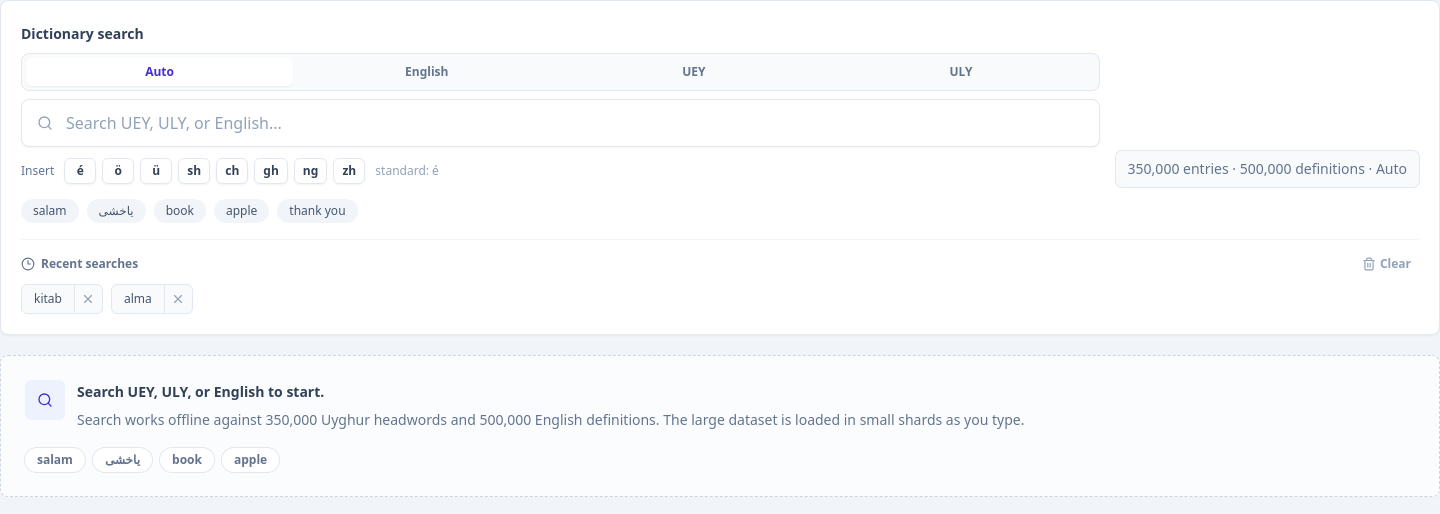
Test: DictionaryPanel › clears all recent searches
Click the button with aria-label "Clear recent searches": (1386, 264) [1354,252,1419,276]
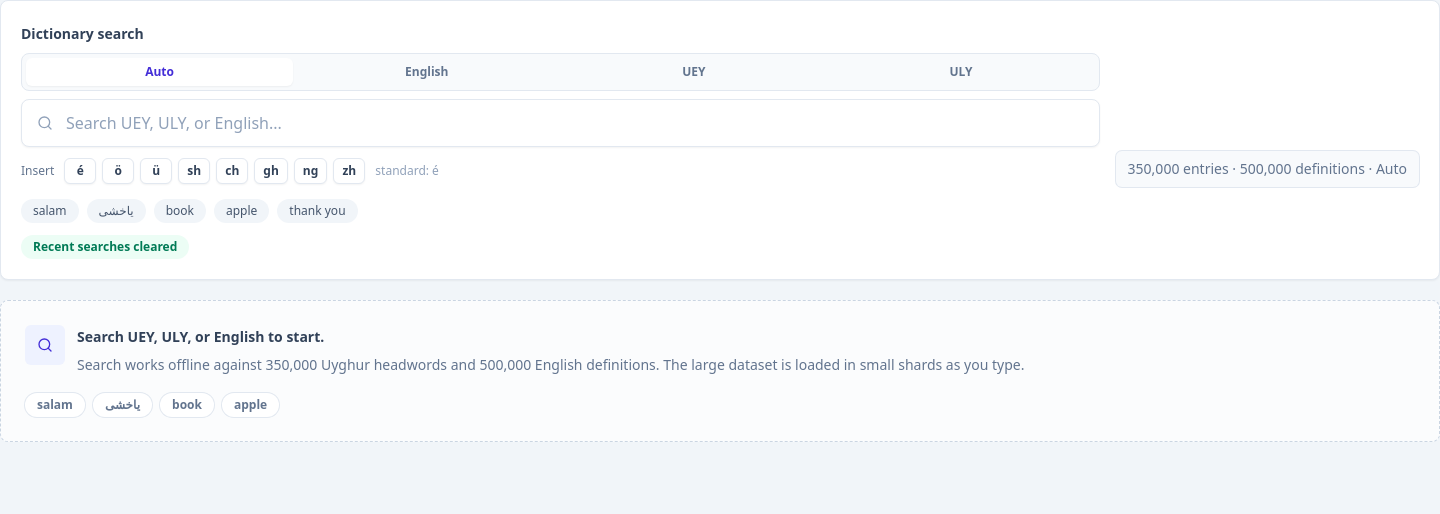
Check: the text "Recent searches cleared" is shown, box [21,235,189,259]
